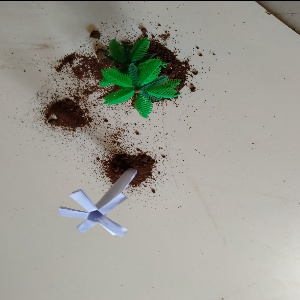plant: (99, 42, 183, 119)
weed: (64, 166, 142, 239)
